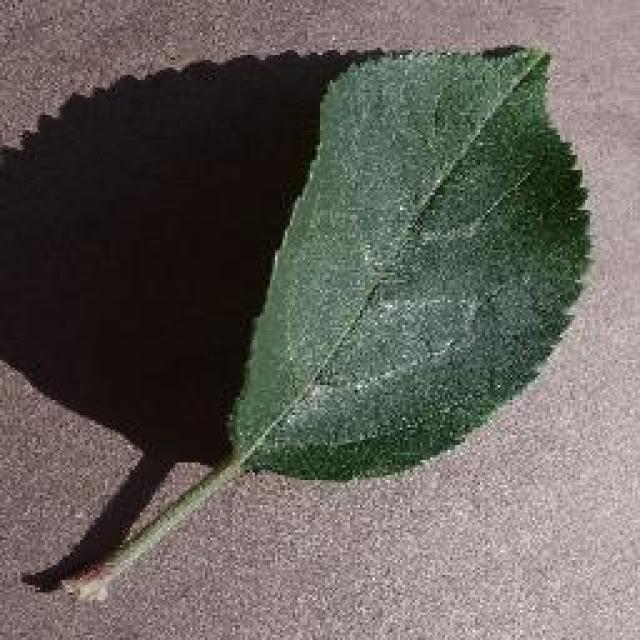apple healthy: (0, 38, 595, 602)
